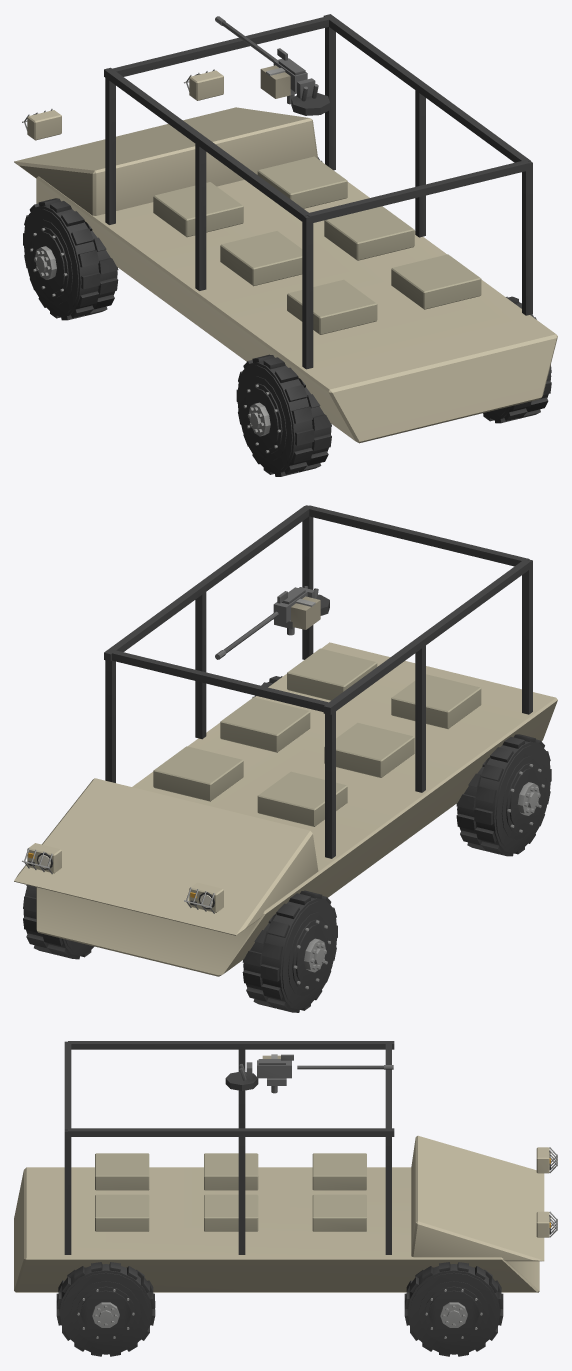
Rendered from usa_lv_isv.glb.
The picture shows the model from 3 angles, top to bottom: view 1: azimuth 30°, elevation 25°; view 2: azimuth 150°, elevation 25°; view 3: azimuth 270°, elevation 25°; orthographic projection. The views are drawn at different scales.
Visible parts, largest first — view 1: body, wheel_2, wheel_0, barrel, wheel_3, turret; view 2: body, wheel_0, wheel_2, barrel, wheel_1; view 3: body, wheel_1, wheel_3, barrel, turret.
Boxes of the visible parts, x1,y1,x2,y2 form: body: (14,14,557,443); wheel_2: (236,354,331,476); wheel_0: (23,198,118,320); barrel: (215,16,318,104); wheel_3: (483,296,551,423); turret: (291,93,329,115); body: (14,505,557,976); wheel_0: (242,890,337,1012); wheel_2: (456,734,551,856); barrel: (215,586,320,659); wheel_1: (23,885,94,959); body: (14,1041,557,1292); wheel_1: (404,1262,503,1356); wheel_3: (56,1262,155,1356); barrel: (239,1054,393,1093); turret: (225,1071,258,1090).
Bounding box in the file's own units: 2.42 × 2.55 × 5.
